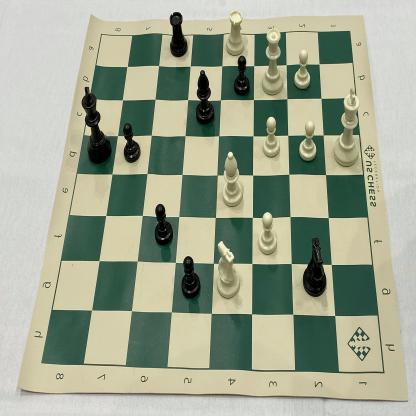black-bishop: (194, 66, 218, 127)
black-king: (79, 84, 113, 168)
black-pawn: (152, 199, 175, 250), (179, 253, 202, 301), (121, 121, 141, 168), (231, 53, 252, 97)
black-rook: (166, 7, 190, 61)
white-bishop: (221, 146, 245, 211)
white-king: (332, 82, 364, 169)
white-knight: (300, 234, 329, 301), (213, 236, 242, 302)
white-pawn: (256, 206, 279, 258), (296, 119, 320, 165), (260, 114, 282, 162), (292, 47, 313, 93)
white-queen: (260, 25, 284, 99)
white-rook: (224, 6, 247, 59)
